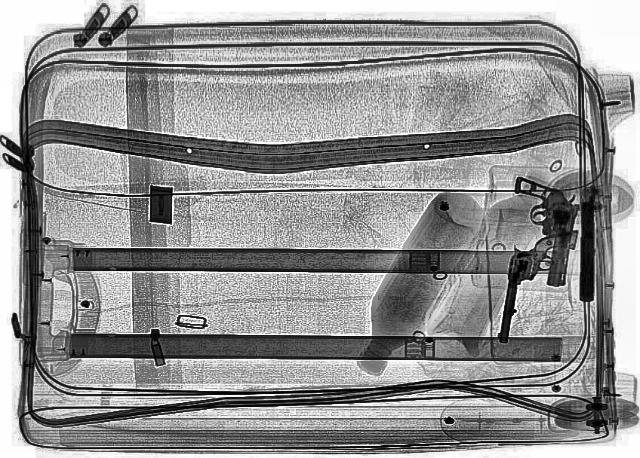Gun: (468, 223, 580, 349), (506, 173, 584, 295), (574, 184, 602, 300)
